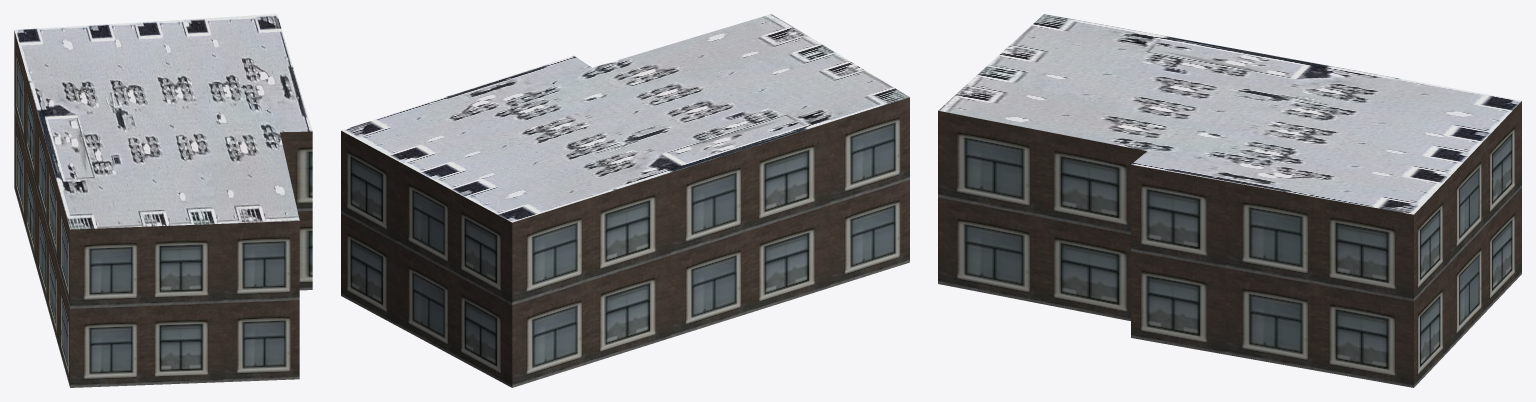
File: ResTex__2607.fbx
The picture shows the model from 3 angles, left to right: view 1: azimuth 30°, elevation 25°; view 2: azimuth 150°, elevation 25°; view 3: azimuth 270°, elevation 25°; orthographic projection. The views are drawn at different scales.
Parts seen in each view (by area): view 1: CityEngineMaterial_15_m, CityEngineMaterial_16_m; view 2: CityEngineMaterial_16_m, CityEngineMaterial_15_m; view 3: CityEngineMaterial_16_m, CityEngineMaterial_15_m.
Part boxes in pixels (bbox=[...]): CityEngineMaterial_15_m: bbox=[14, 14, 312, 229]; CityEngineMaterial_16_m: bbox=[14, 31, 312, 387]; CityEngineMaterial_16_m: bbox=[341, 97, 909, 387]; CityEngineMaterial_15_m: bbox=[341, 14, 909, 222]; CityEngineMaterial_16_m: bbox=[938, 101, 1521, 387]; CityEngineMaterial_15_m: bbox=[938, 14, 1521, 214].
Bounding box in the file's own units: 14.9 × 6 × 18.32.
Materials: 2 (2 with a texture image).
